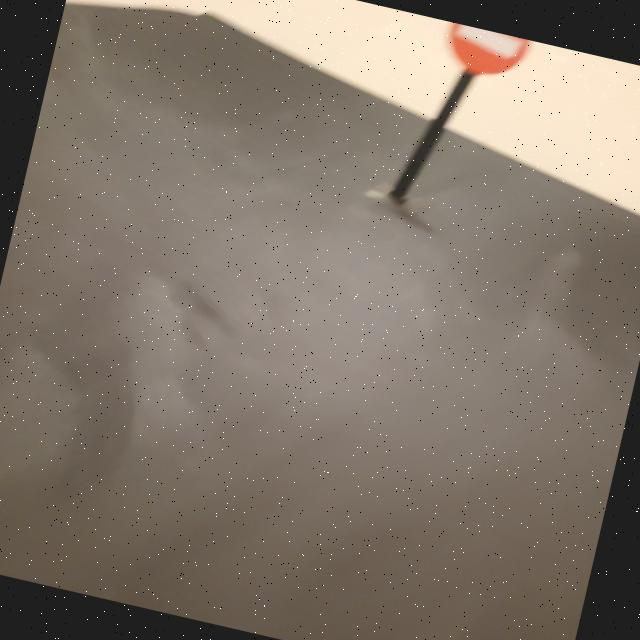no_entry: (436, 21, 534, 86)
